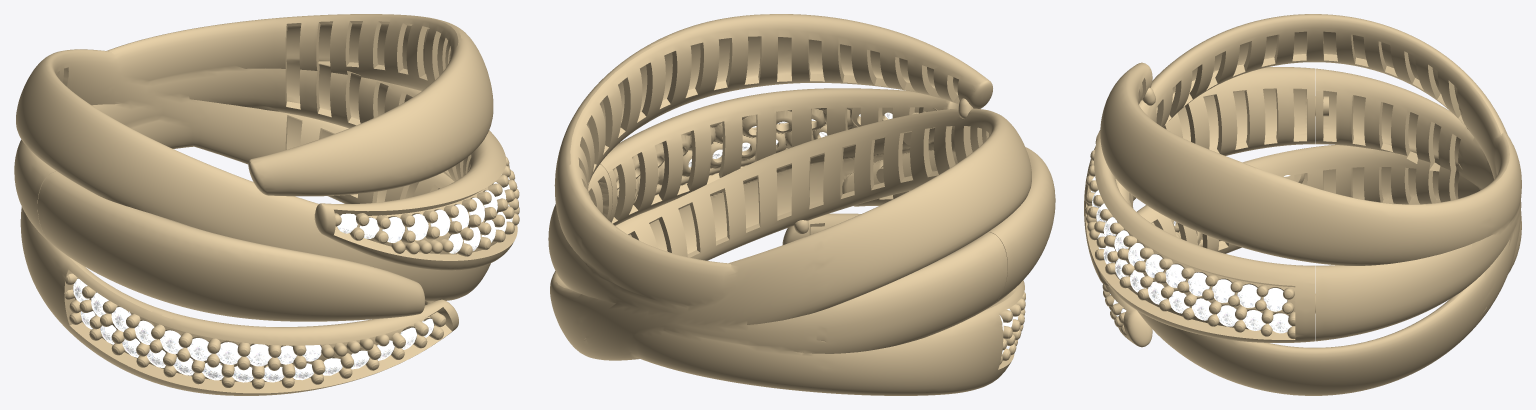
Rendered from ELF369 __elf125-1_14kGold.glb.
3 views of the same model, side by side, from view 1: azimuth 30°, elevation 25°; view 2: azimuth 150°, elevation 25°; view 3: azimuth 270°, elevation 25° (orthographic). The views are drawn at different scales.
Visible parts, largest first — view 1: object 1, object 3, object 2; view 2: object 1, object 2, object 3; view 3: object 1, object 2, object 3, Diamond_Round(B7E78054-CBDD-45AA-A456-80864FE624BA) (×3).
Part boxes in pixels (<box>): object 1: <box>14,14,493,395</box>; object 3: <box>37,171,425,321</box>; object 2: <box>315,130,519,270</box>; object 1: <box>548,14,1031,395</box>; object 2: <box>600,88,958,225</box>; object 3: <box>854,147,1055,303</box>; object 1: <box>1100,14,1521,395</box>; object 2: <box>1085,130,1315,342</box>; object 3: <box>1084,67,1328,286</box>; Diamond_Round(B7E78054-CBDD-45AA-A456-80864FE624BA) (×3): <box>1212,279,1287,311</box>.
Bounding box in the file's own units: 0.0229 × 0.0134 × 0.022.
51 materials, 48 textured.
